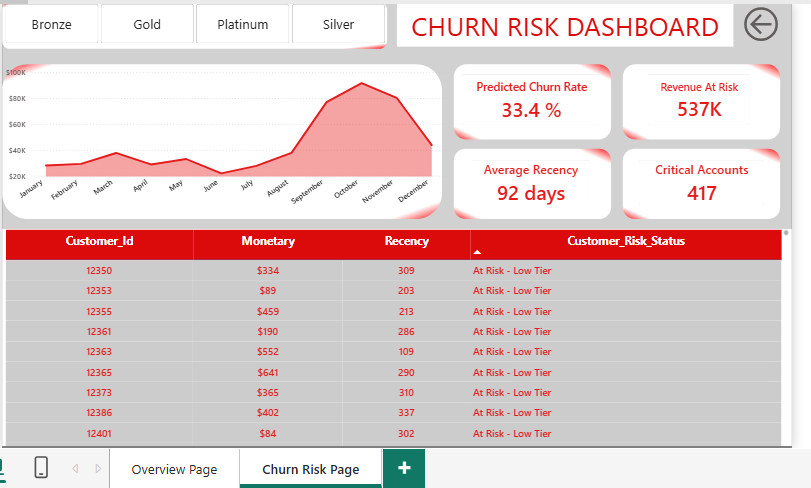

What the dashboard file says about the page in this screenshot:
{"tool":"powerbi","page":{"name":"Churn Risk Page","canvas":[1280,720],"ordinal":1},"visuals":[{"type":"cardVisual","fields":{"Data":["New_cleaned_online_retail2.Predicted Churn Rate"]},"box":[727.4,96.3,260.3,117.7],"z":0},{"type":"cardVisual","fields":{"Data":["New_cleaned_online_retail2.Revenue at Risk"]},"box":[1028.8,96.3,201.5,117.7],"z":1000},{"type":"cardVisual","fields":{"Data":["New_cleaned_online_retail2.Total Critical Accounts"]},"box":[1014.5,235.3,238.9,108.8],"z":2000},{"type":"actionButton","box":[1180.3,0,99.8,69.5],"z":3000},{"type":"cardVisual","fields":{"Data":["New_cleaned_online_retail2.Average Recency Smart"]},"box":[743.5,235.3,226.4,108.8],"z":4000},{"type":"areaChart","title":"How much revenue would lose to churn each month?","fields":{"Category":["Calender.Date.Variation.Datumhiërarchie.Jaar","Calender.Date.Variation.Datumhiërarchie.Kwartaal","Calender.Date.Variation.Datumhiërarchie.Maand","Calender.Date.Variation.Datumhiërarchie.Dag"],"Y":["New_cleaned_online_retail2.Revenue at Risk"]},"box":[0,96.3,723.9,247.8],"z":5000},{"type":"tableEx","fields":{"Values":["Final_Churn_Predictions1.Customer_Id","Final_Churn_Predictions1.Monetary","Final_Churn_Predictions1.Recency","Final_Churn_Predictions1.Customer_Risk_Status"]},"box":[0,360.2,1280.1,360.2],"z":6000},{"type":"advancedSlicerVisual","fields":{"Values":["Final_Churn_Predictions1.Customer_Segment"]},"box":[0,0,627.6,69.5],"z":7000},{"type":"textbox","box":[640.1,0,545.6,69.5],"z":8000}]}

Visuals, with their boxes on the page's 1280x720 design canvas (x1, y1, x2, y2). These are canvas units, not pixel positions in the 811x488 screenshot, which may show the page scaled, cropped or inside an application window:
cardVisual - New_cleaned_online_retail2.Predicted Churn Rate: region(727, 96, 988, 214)
cardVisual - New_cleaned_online_retail2.Revenue at Risk: region(1029, 96, 1230, 214)
cardVisual - New_cleaned_online_retail2.Total Critical Accounts: region(1014, 235, 1253, 344)
actionButton: region(1180, 0, 1280, 70)
cardVisual - New_cleaned_online_retail2.Average Recency Smart: region(744, 235, 970, 344)
"How much revenue would lose to churn each month?" areaChart: region(0, 96, 724, 344)
tableEx - Final_Churn_Predictions1.Customer_Id x Final_Churn_Predictions1.Monetary: region(0, 360, 1280, 720)
advancedSlicerVisual - Final_Churn_Predictions1.Customer_Segment: region(0, 0, 628, 70)
textbox: region(640, 0, 1186, 70)
